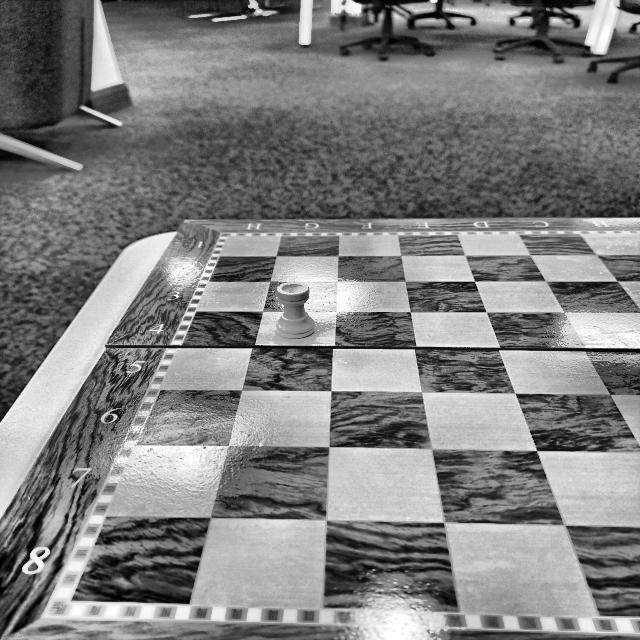white-rook: (276, 282, 315, 338)
